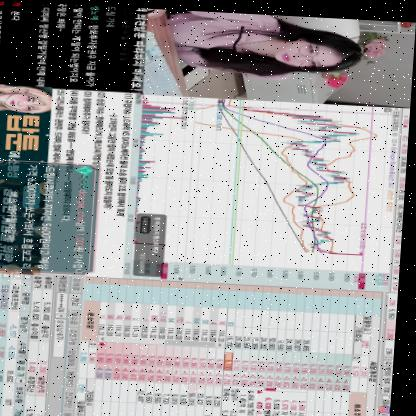donation: (0, 158, 104, 275)
streamer: (144, 7, 365, 79)
